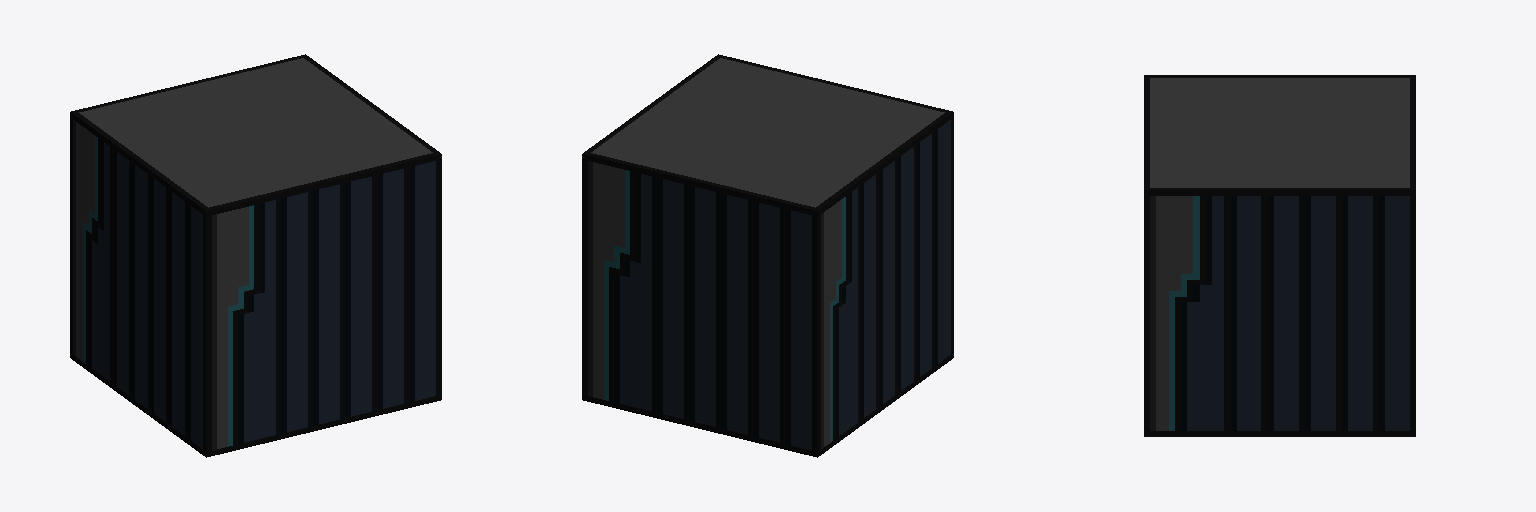
The picture shows the model from 3 angles: view 1: azimuth 30°, elevation 25°; view 2: azimuth 150°, elevation 25°; view 3: azimuth 270°, elevation 25°; orthographic projection.
Parts seen in each view (by area): view 1: object 1; view 2: object 1; view 3: object 1.
Part boxes in pixels (left/top/right/bottom): object 1: left=70, top=54, right=441, bottom=457; object 1: left=582, top=54, right=953, bottom=457; object 1: left=1144, top=75, right=1415, bottom=436.
Bounding box in the file's own units: 4.4 × 4.4 × 4.4.
Materials: 1 (1 with a texture image).